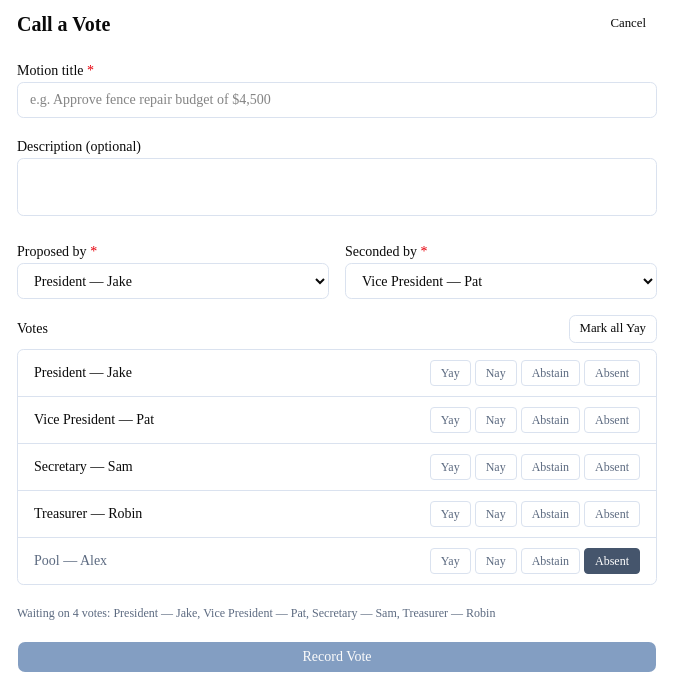
it: VotePanel › enables submission once a title and every present vote are in
Type "Approve the budget" into the field labelled "Motion title *". click: (337, 100)
box: left=17, top=82, right=657, bottom=118
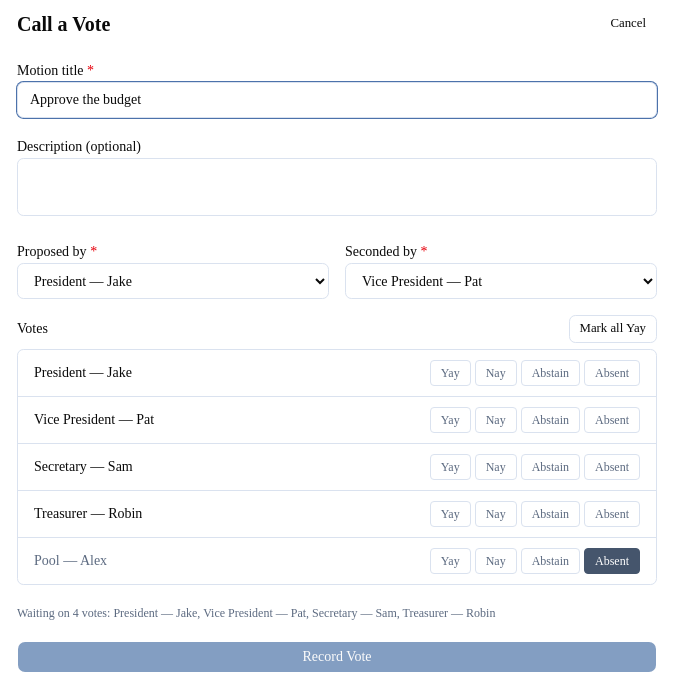
Click the button "Mark all Yay". click: (613, 329)
box: left=568, top=315, right=657, bottom=343
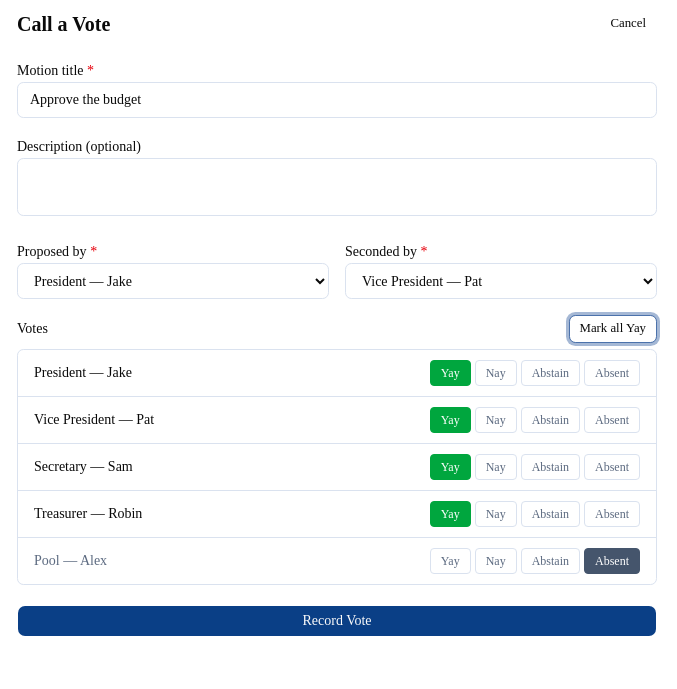
Check: the text "Waiting on" is gone
Check: the button "Record Vote" is enabled, box left=17, top=605, right=657, bottom=637
